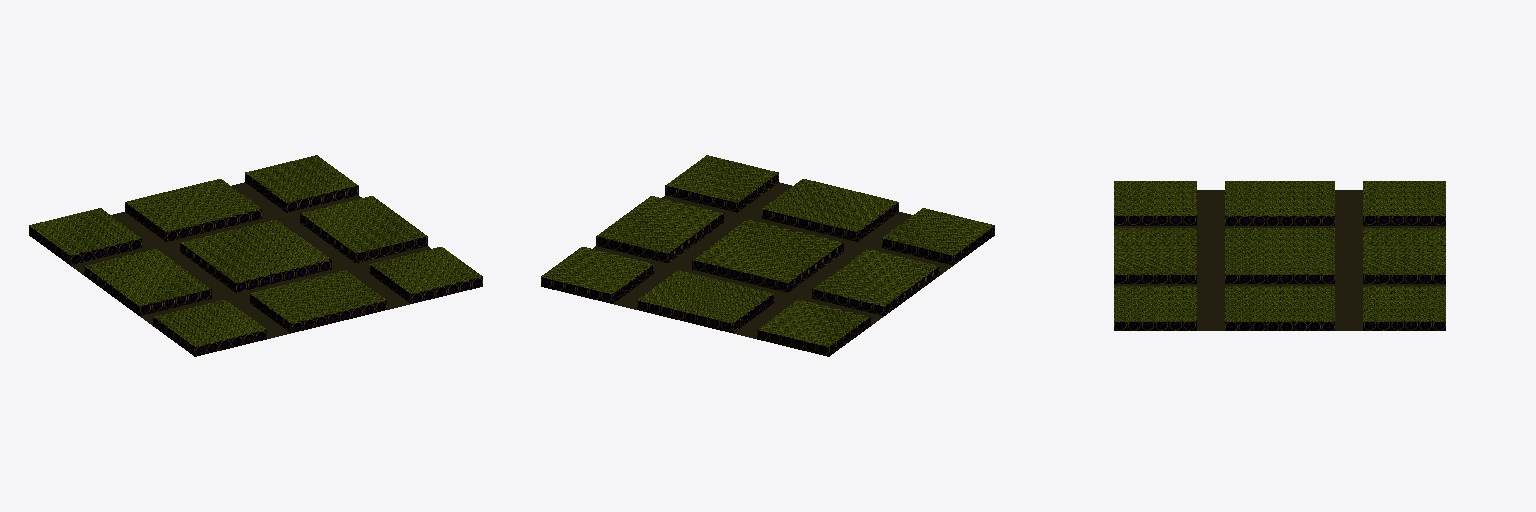
The picture shows the model from 3 angles: view 1: azimuth 30°, elevation 25°; view 2: azimuth 150°, elevation 25°; view 3: azimuth 270°, elevation 25°; orthographic projection.
Parts seen in each view (by area): view 1: champ1; view 2: champ1; view 3: champ1.
Boxes of the visible parts, <box> form: champ1: <box>29,155,482,356</box>; champ1: <box>541,155,994,356</box>; champ1: <box>1114,181,1445,330</box>.
Size of the model in its own units: 48 by 1.54 by 48.
3 materials, 2 textured.